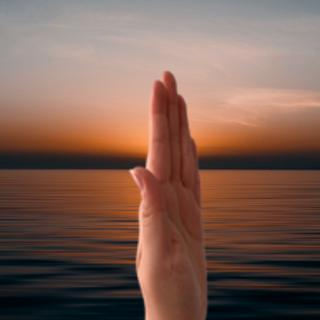Right: (114, 69, 226, 313)
